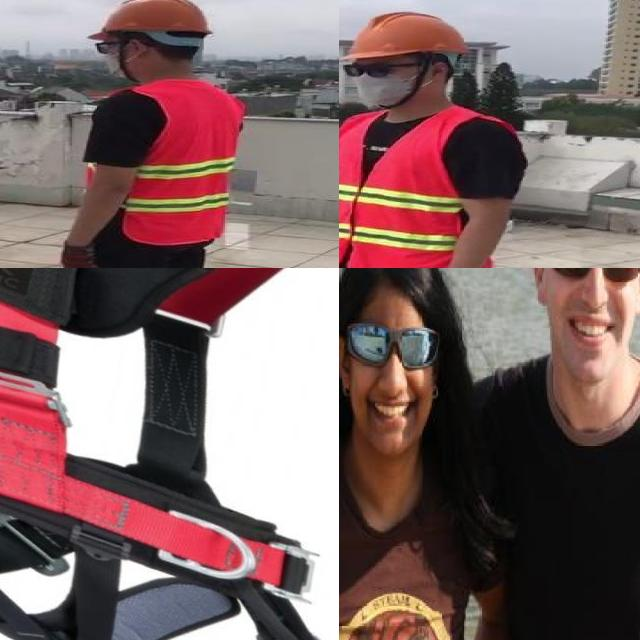Harness: (0, 268, 318, 640)
face_nomask: (341, 317, 445, 445), (540, 268, 640, 365)
glasses: (344, 322, 441, 373), (542, 268, 640, 289)
hand_glove: (59, 245, 104, 268)
head_helmet: (344, 8, 471, 61), (83, 0, 211, 38)
head_nohelmet: (339, 268, 455, 307)
person: (458, 268, 640, 640), (339, 268, 497, 640), (49, 0, 241, 268), (339, 8, 535, 268)
vest: (85, 81, 241, 246), (339, 108, 498, 268)
